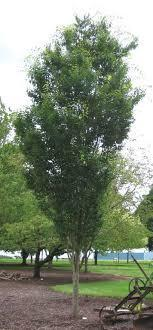tree: (16, 13, 144, 317)
